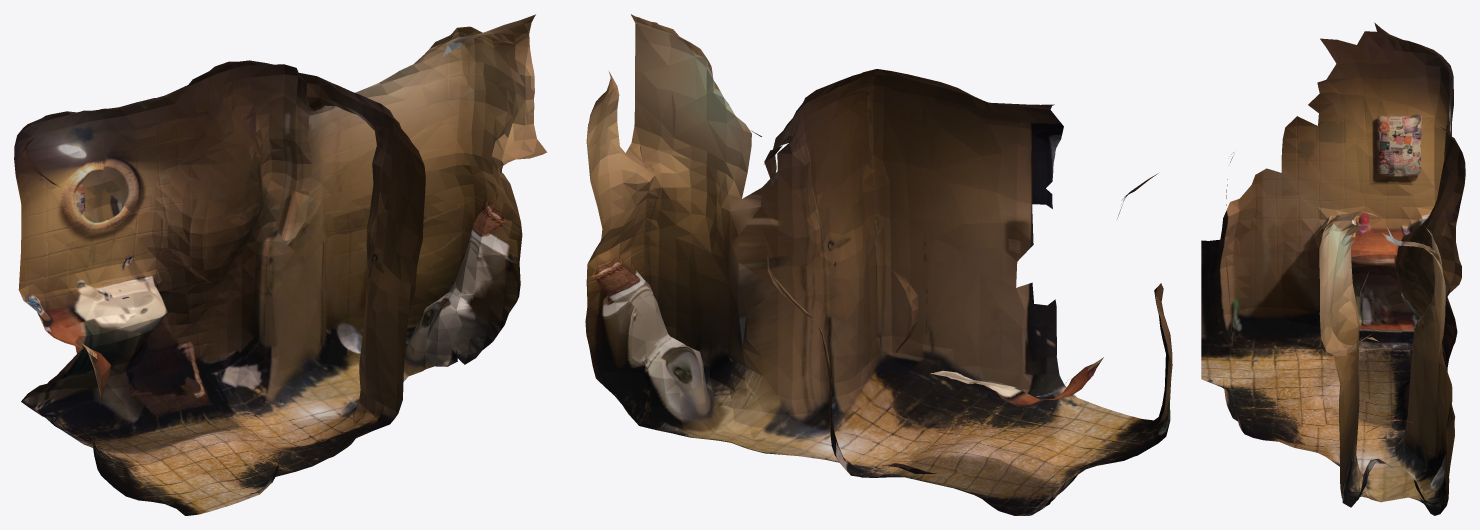
The model's file is pepouz_femme.glb.
3 views of the same model, side by side, from view 1: azimuth 30°, elevation 25°; view 2: azimuth 150°, elevation 25°; view 3: azimuth 270°, elevation 25° (orthographic). The views are drawn at different scales.
Parts seen in each view (by area): view 1: mesh; view 2: mesh; view 3: mesh.
Boxes of the visible parts, left/top/right/bottom form: mesh: left=14, top=14, right=547, bottom=515; mesh: left=585, top=14, right=1172, bottom=515; mesh: left=1201, top=22, right=1465, bottom=515.
Bounding box in the file's own units: 3.8 × 2.52 × 1.84.
1 material, 1 textured.
